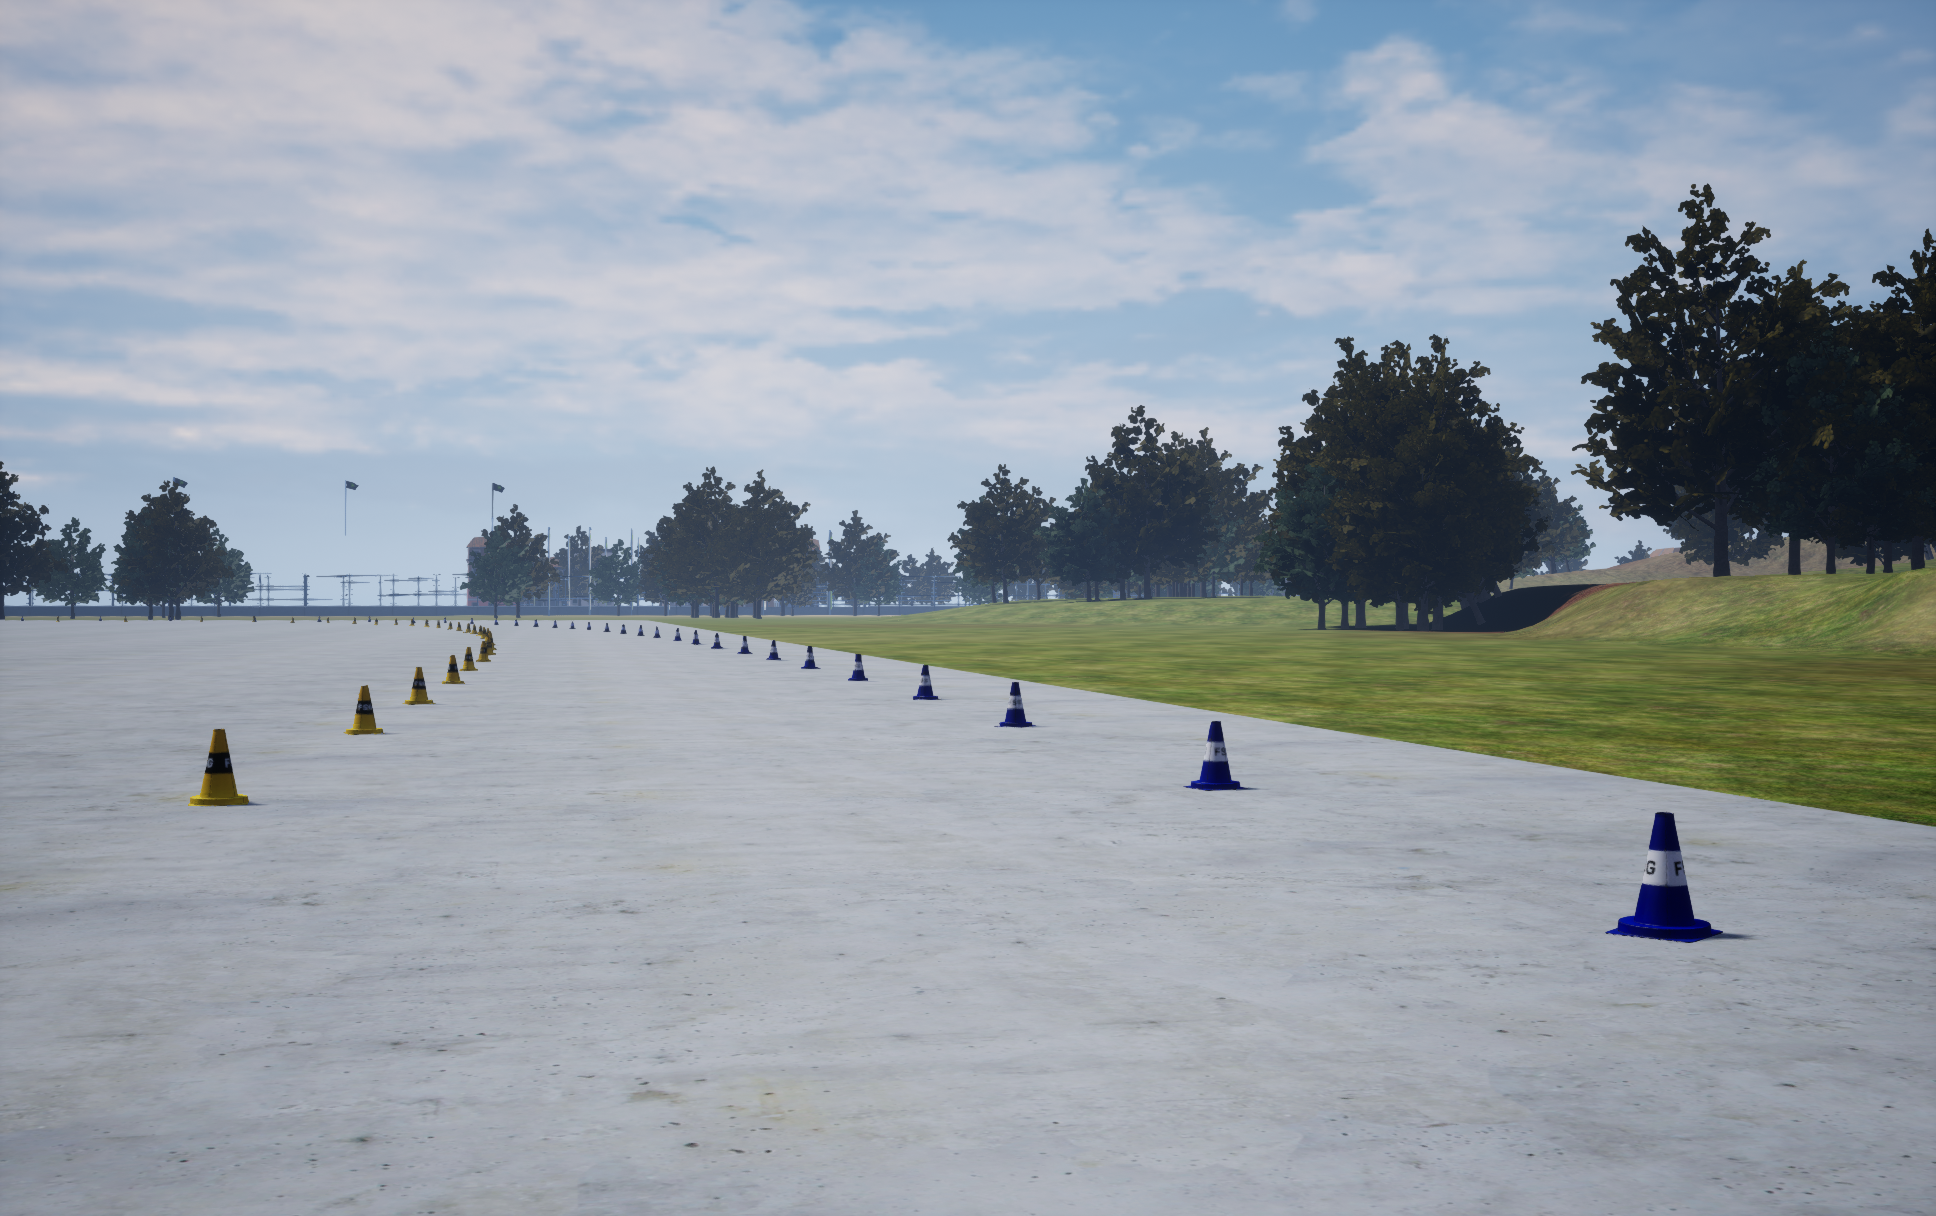blue: (188, 728, 248, 806), (343, 685, 384, 734), (402, 667, 436, 705), (443, 656, 464, 684), (459, 647, 478, 670), (476, 642, 490, 661)
yellow: (1605, 813, 1722, 941), (1182, 721, 1247, 790), (995, 682, 1035, 727), (913, 665, 940, 699), (848, 654, 867, 679), (801, 646, 820, 668), (766, 640, 780, 658)
